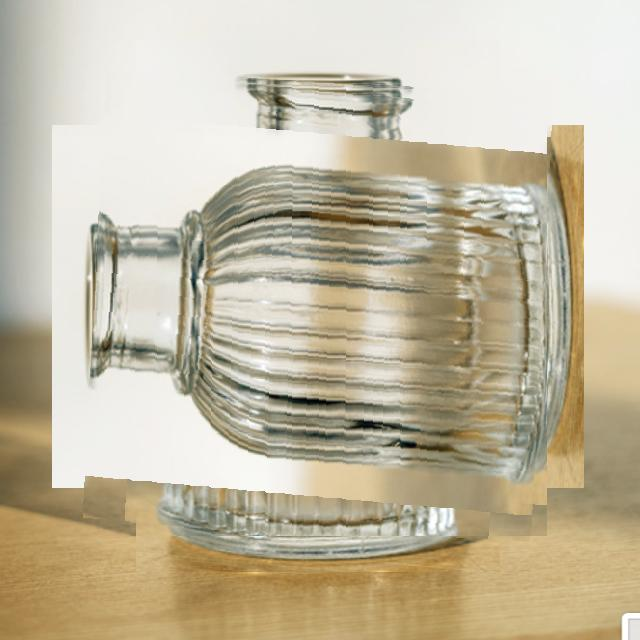recyclable: (89, 77, 547, 536)
